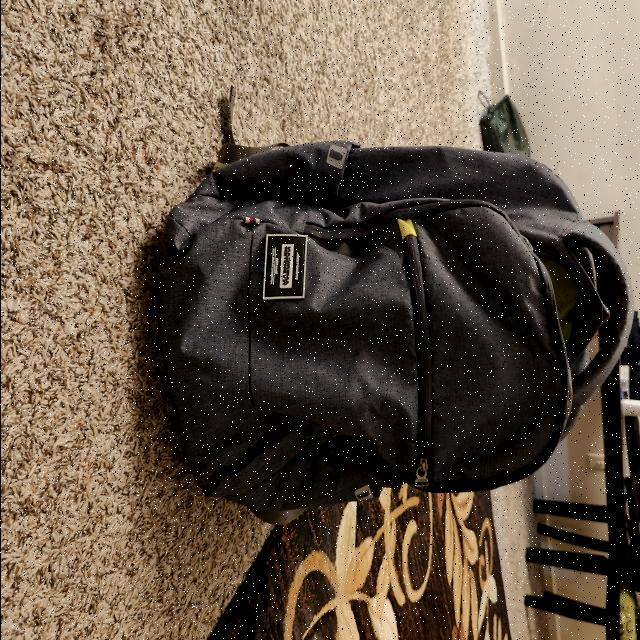bag: (150, 175, 630, 491)
